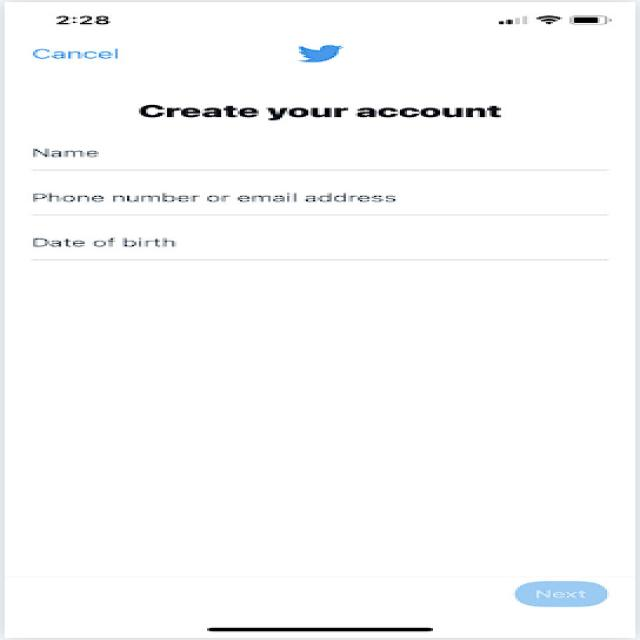button: (480, 561, 614, 618)
input: (18, 130, 628, 180), (18, 178, 630, 227), (21, 227, 633, 269)
spacer: (12, 275, 614, 554)
text: (124, 95, 522, 122)
